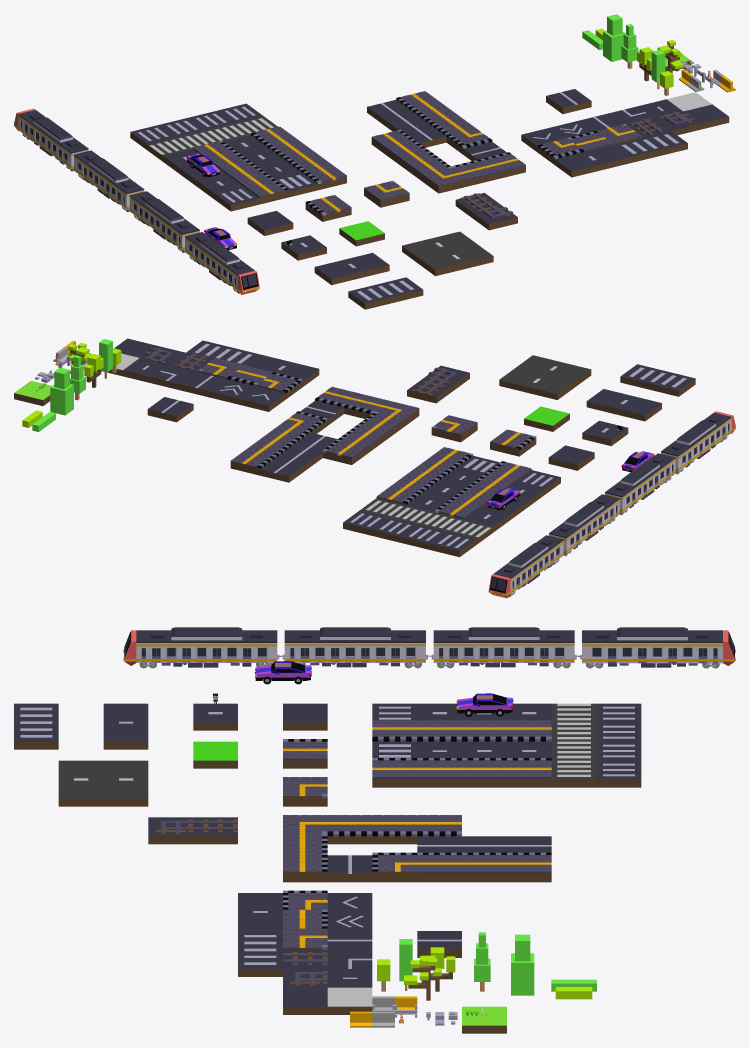
File: tilemap.fbx
3 renders of one model, top to bottom at view 1: azimuth 30°, elevation 25°; view 2: azimuth 150°, elevation 25°; view 3: azimuth 270°, elevation 25°, orthographic. The views are drawn at different scales.
Parts seen in each view (by area): view 1: Object, Cube.010, Cube.006, Cube.007, Cube.090, Cube.091, Cube.012, Cube.013, Cube.008, Cube.059, Cube.002, Cube.005 (+44 smaller); view 2: Object, Cube.010, Cube.006, Cube.007, Cube.090, Cube.059, Cube.091, Cube.049, Cube.008, Cube.012, Cube.001, Cube.005 (+55 smaller); view 3: Object, Cube.010, Cube.006, Cube.007, Cube.091, Cube.090, Cube.041, Cube.038, Cube.039, Cube.040, Cube.014, Cube.045 (+57 smaller).
Boxes of the visible parts, x1,y1,x2,y2 form: Object: (14, 108, 259, 294); Cube.010: (402, 231, 493, 276); Cube.006: (314, 252, 389, 285); Cube.007: (348, 277, 423, 309); Cube.090: (555, 145, 629, 177); Cube.091: (613, 131, 687, 163); Cube.012: (305, 195, 351, 221); Cube.013: (422, 166, 467, 193); Cube.008: (364, 180, 409, 207); Cube.059: (603, 14, 625, 61); Cube.002: (472, 205, 517, 230); Cube.005: (247, 210, 293, 235); Object: (488, 411, 735, 598); Cube.010: (499, 355, 591, 399); Cube.006: (586, 389, 661, 421); Cube.007: (620, 364, 695, 396); Cube.090: (246, 354, 319, 386); Cube.059: (50, 367, 73, 415); Cube.091: (186, 340, 260, 365); Cube.049: (322, 438, 368, 464); Cube.008: (431, 415, 477, 442); Cube.012: (490, 429, 536, 456); Cube.001: (407, 378, 452, 403); Cube.005: (548, 445, 594, 470); Object: (123, 627, 735, 668); Cube.010: (58, 760, 148, 806); Cube.006: (103, 703, 148, 749); Cube.007: (14, 703, 58, 749); Cube.091: (238, 931, 282, 976); Cube.090: (238, 893, 282, 930); Cube.041: (372, 852, 417, 882); Cube.038: (507, 852, 551, 882); Cube.039: (462, 852, 506, 882); Cube.040: (417, 852, 461, 882); Cube.014: (372, 758, 417, 787); Cube.045: (372, 815, 417, 844).
Bounding box in the file's own units: 19902 × 1607 × 16112.
